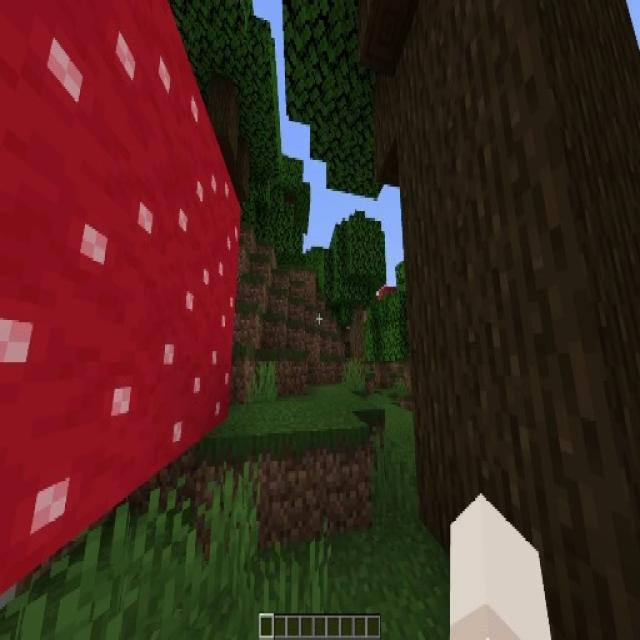dark_oak_log: (402, 6, 640, 633)
oak: (322, 212, 387, 371)
